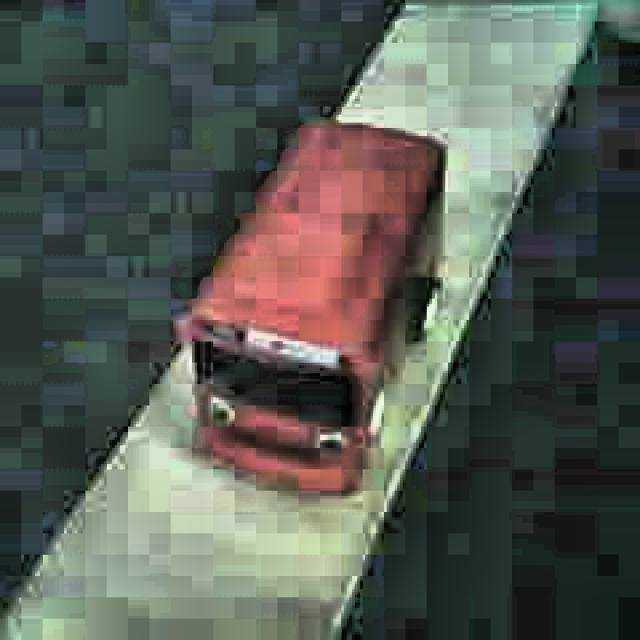bus: (178, 118, 448, 495)
